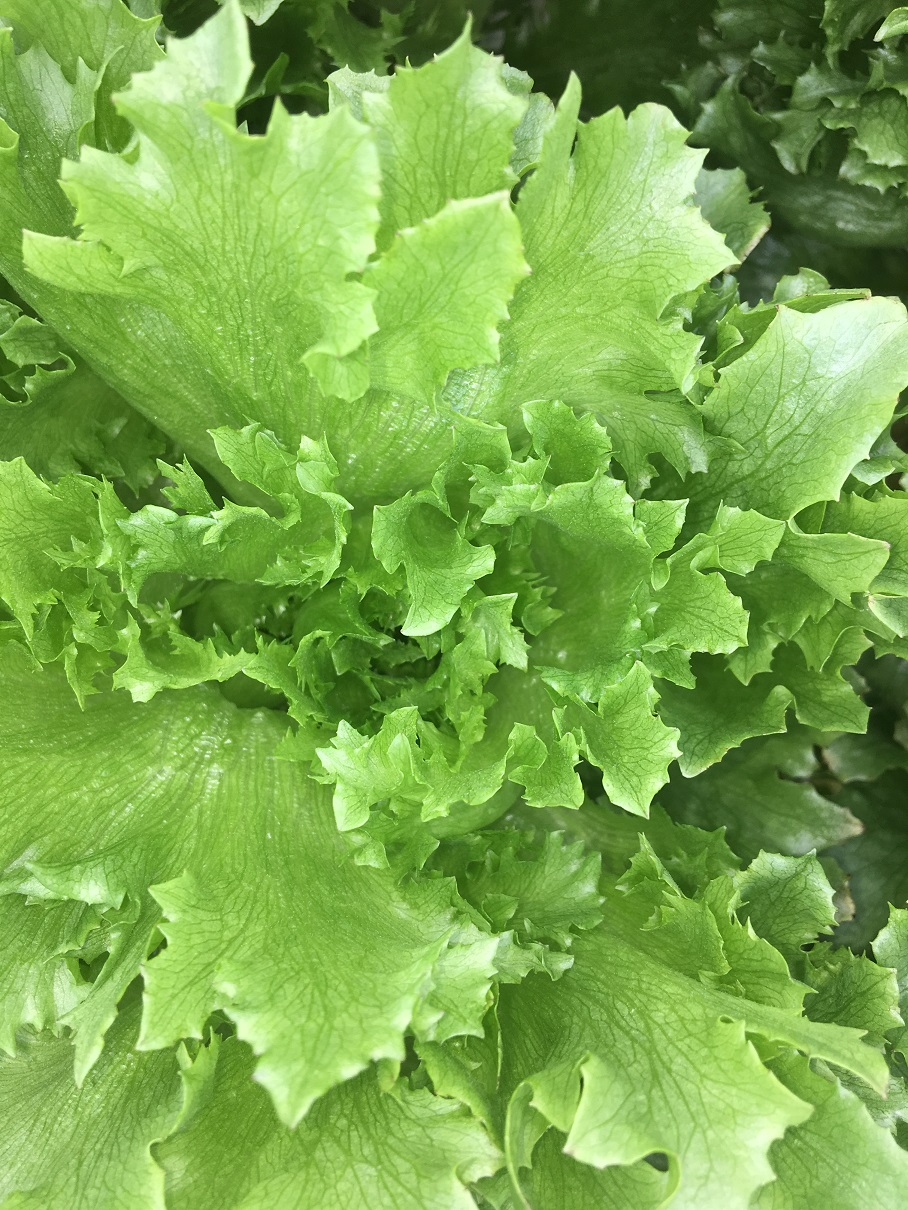tipburn: (839, 807, 880, 852), (836, 896, 874, 938), (845, 272, 885, 310), (813, 734, 845, 767), (858, 587, 884, 618), (871, 525, 896, 556), (766, 292, 791, 320)
